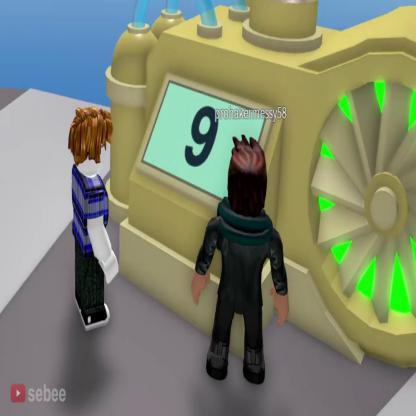Roblox-Avatar: (192, 135, 290, 385), (69, 107, 119, 332)
